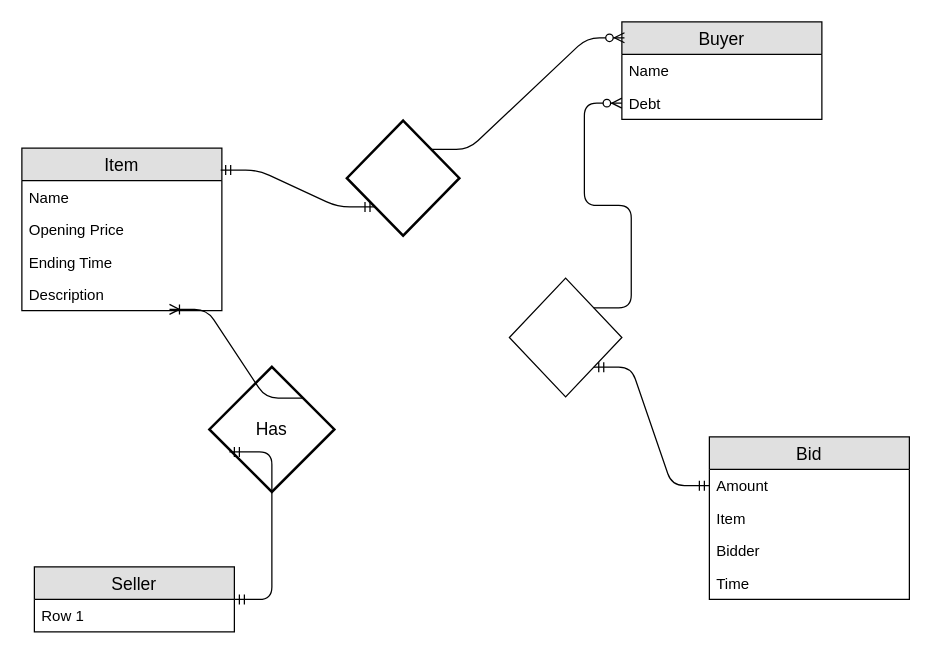
This 931x658 diagram has some shape labels left out. The shapes that lost their labels are listed below. From the top down, each one's centre as x and y in pixels, then its label:
At pixel 402 177: "Purchases".
At pixel 565 337: "Submits".
